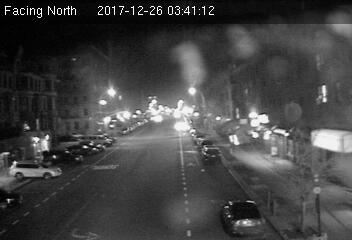car: (221, 199, 265, 235), (200, 146, 222, 161)
